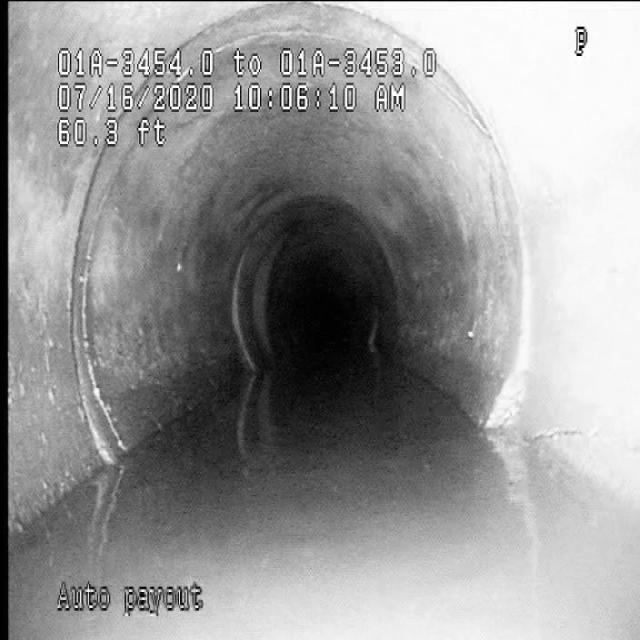Crack: (525, 404, 613, 462)
